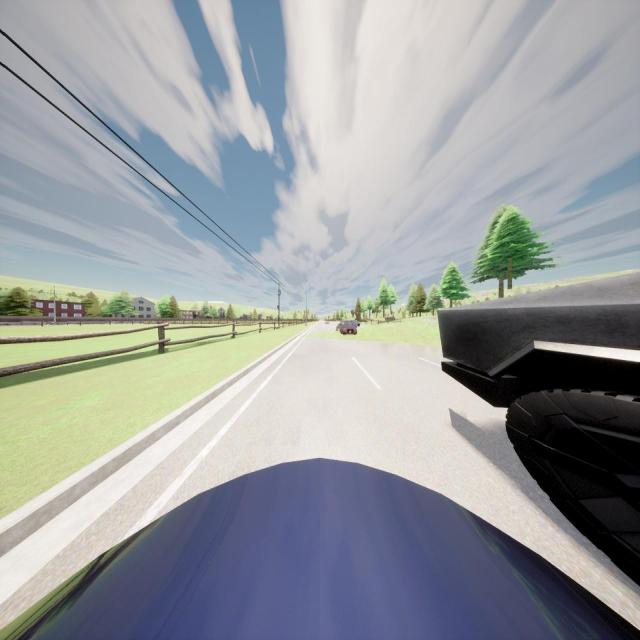Vehicle: (0, 458, 640, 640), (436, 270, 640, 588), (340, 321, 358, 335), (324, 320, 330, 325)
